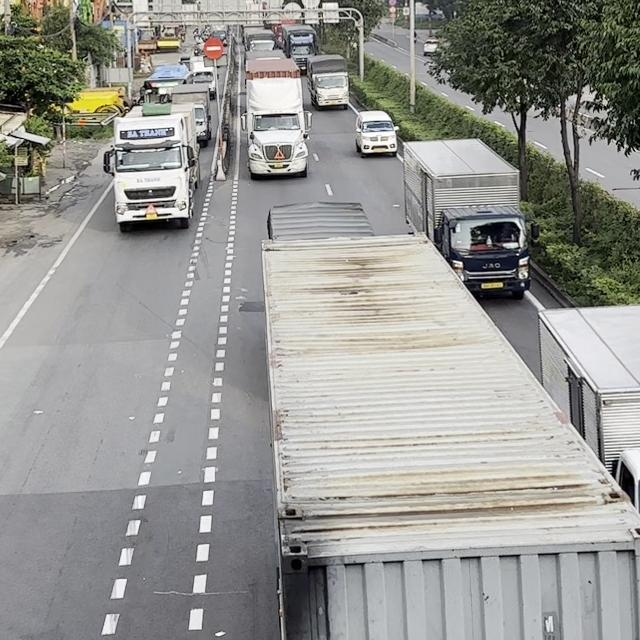bus: (141, 63, 191, 116)
car: (354, 110, 399, 157)
truck: (262, 231, 640, 640), (401, 136, 538, 300), (537, 302, 639, 515), (102, 103, 201, 232), (240, 57, 312, 179), (266, 200, 375, 241), (170, 82, 211, 147), (305, 53, 349, 110), (279, 23, 318, 75)
